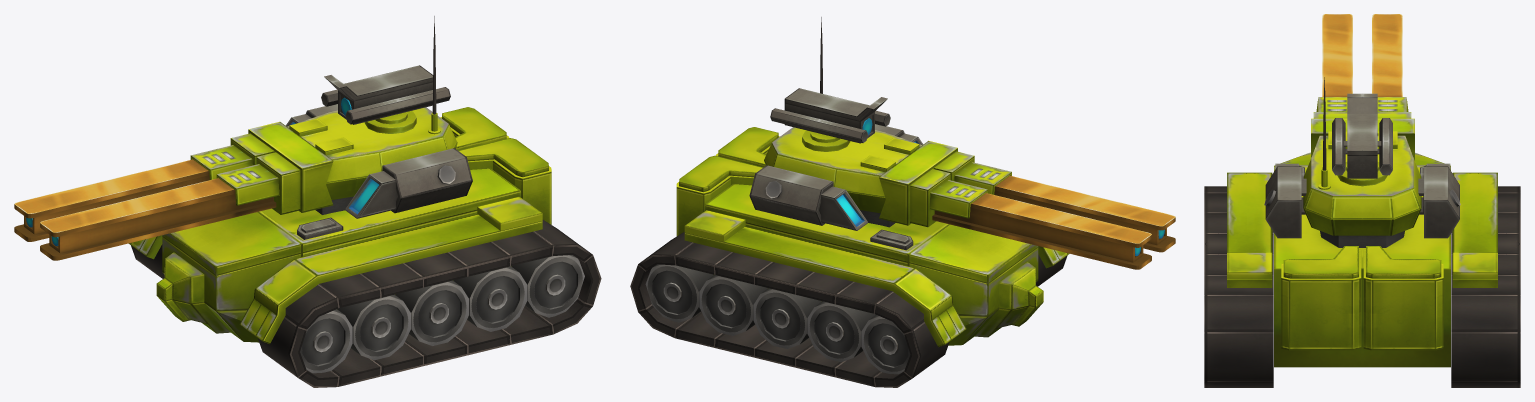
File: tank2_level4.FBX
3 views of the same model, side by side, from view 1: azimuth 30°, elevation 25°; view 2: azimuth 150°, elevation 25°; view 3: azimuth 270°, elevation 25° (orthographic). The views are drawn at different scales.
Visible parts, largest first — view 1: tank2_level4, tank2_level4_weapon, tank2_level4_weapon2; view 2: tank2_level4, tank2_level4_weapon, tank2_level4_weapon2; view 3: tank2_level4, tank2_level4_weapon, tank2_level4_weapon2.
Part boxes in pixels (x1=…): tank2_level4: x1=128, y1=107, x2=601, y2=387; tank2_level4_weapon: x1=230, y1=16, x2=472, y2=218; tank2_level4_weapon2: x1=14, y1=145, x2=279, y2=260; tank2_level4: x1=630, y1=127, x2=1069, y2=387; tank2_level4_weapon: x1=749, y1=17, x2=974, y2=230; tank2_level4_weapon2: x1=929, y1=162, x2=1175, y2=269; tank2_level4: x1=1204, y1=152, x2=1520, y2=387; tank2_level4_weapon: x1=1264, y1=77, x2=1460, y2=247; tank2_level4_weapon2: x1=1316, y1=14, x2=1408, y2=111.
Bounding box in the file's own units: 65.65 × 37.29 × 37.98.
